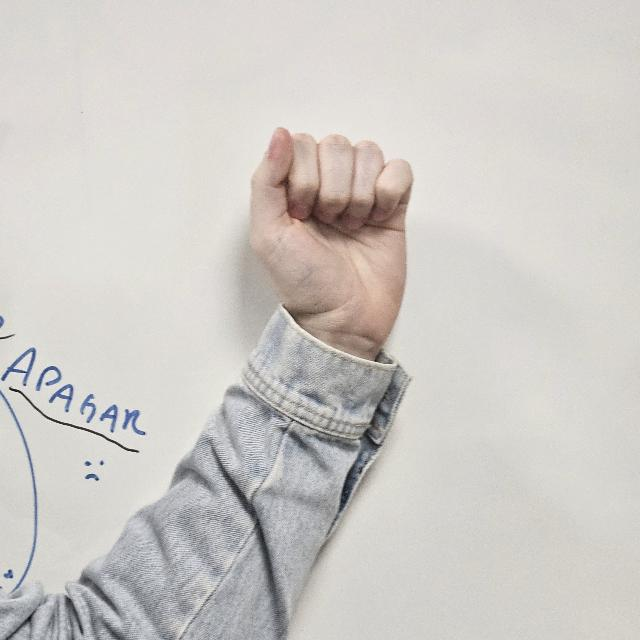Quadro: (246, 120, 418, 346)
